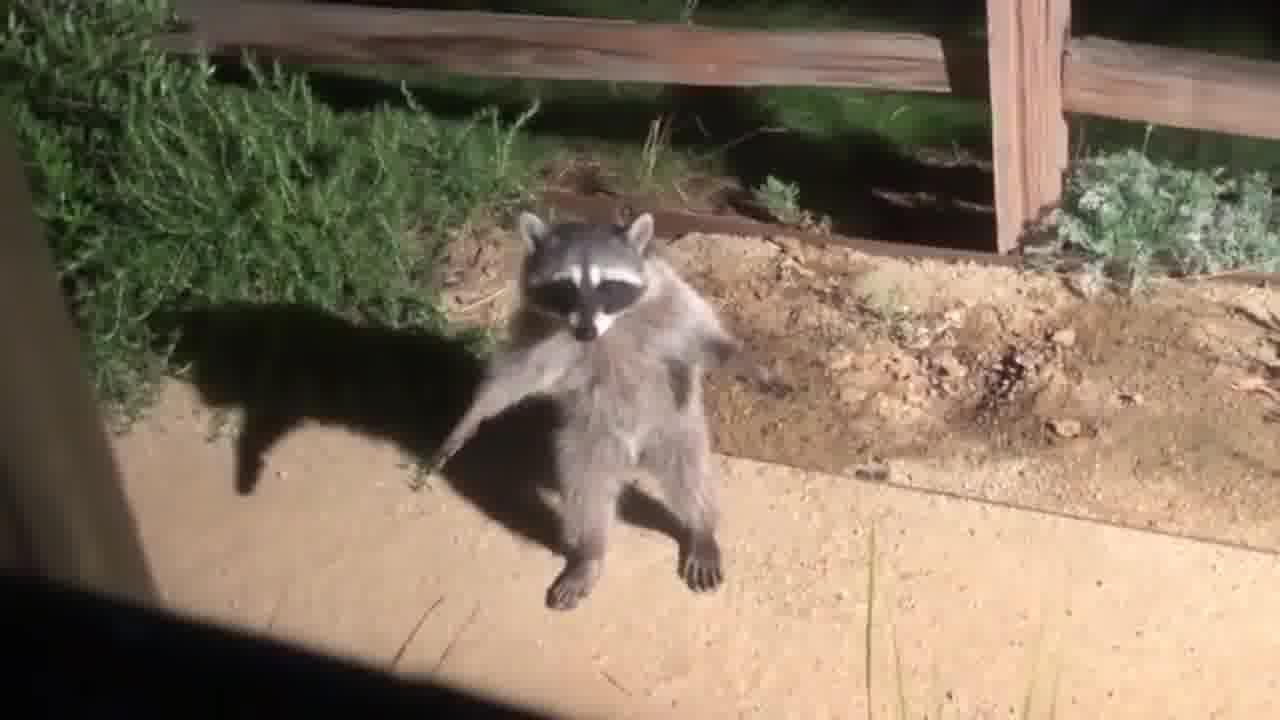raccoon: (399, 208, 801, 623)
